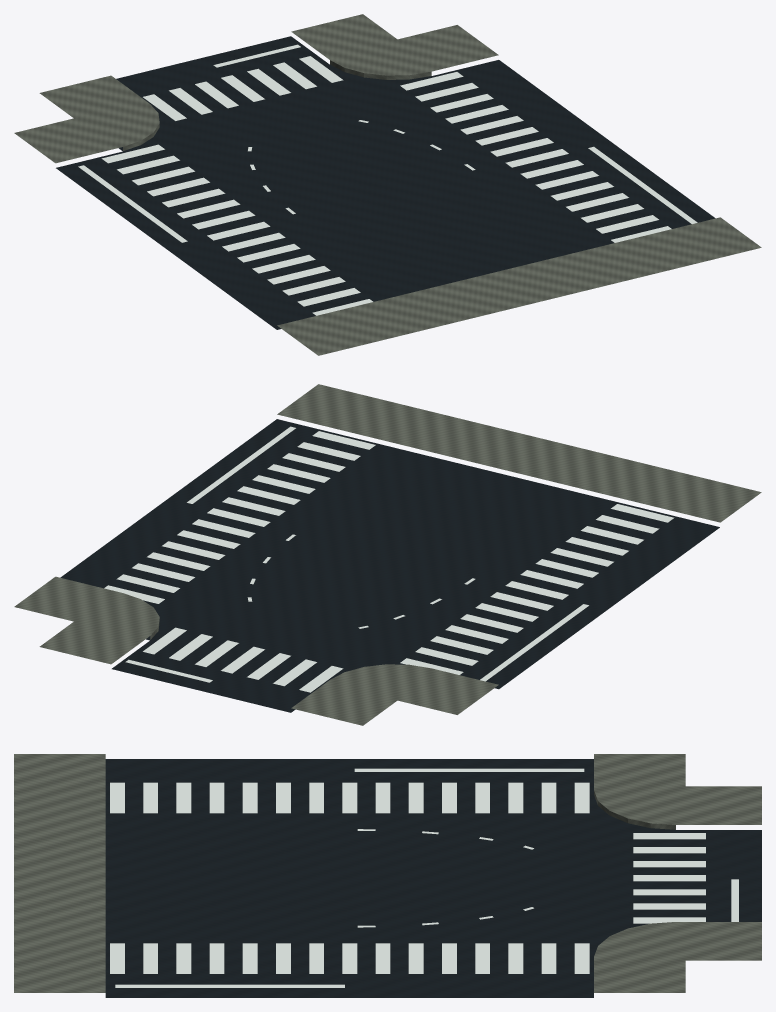
File: junc_tee_4x2_LOD1.glb
3 views of the same model, one above another, from view 1: azimuth 30°, elevation 25°; view 2: azimuth 150°, elevation 25°; view 3: azimuth 270°, elevation 25° (orthographic). The views are drawn at different scales.
Visible parts, largest first — view 1: junc_tee_4x2__surface.001, junc_tee_4x2__rounded_corner_curb.001, junc_tee_4x2__crosswalk_paint.001, junc_tee_4x2__stop_line_paint.001; view 2: junc_tee_4x2__surface.001, junc_tee_4x2__rounded_corner_curb.001, junc_tee_4x2__crosswalk_paint.001, junc_tee_4x2__stop_line_paint.001; view 3: junc_tee_4x2__surface.001, junc_tee_4x2__rounded_corner_curb.001, junc_tee_4x2__crosswalk_paint.001, junc_tee_4x2__stop_line_paint.001.
Boxes of the visible parts, box(x1,y1,x2,y2) form: junc_tee_4x2__surface.001: box(56, 36, 715, 329); junc_tee_4x2__rounded_corner_curb.001: box(14, 14, 761, 355); junc_tee_4x2__crosswalk_paint.001: box(101, 56, 671, 315); junc_tee_4x2__stop_line_paint.001: box(78, 44, 697, 242); junc_tee_4x2__surface.001: box(60, 419, 719, 712); junc_tee_4x2__rounded_corner_curb.001: box(14, 384, 761, 725); junc_tee_4x2__crosswalk_paint.001: box(104, 431, 674, 692); junc_tee_4x2__stop_line_paint.001: box(125, 426, 588, 682); junc_tee_4x2__surface.001: box(105, 759, 761, 997); junc_tee_4x2__rounded_corner_curb.001: box(14, 754, 761, 992); junc_tee_4x2__crosswalk_paint.001: box(110, 782, 705, 973); junc_tee_4x2__stop_line_paint.001: box(115, 768, 738, 987).
Bounding box in the file's own units: 14.8 × 0.145 × 19.6.
Materials: 4 (3 with a texture image).
